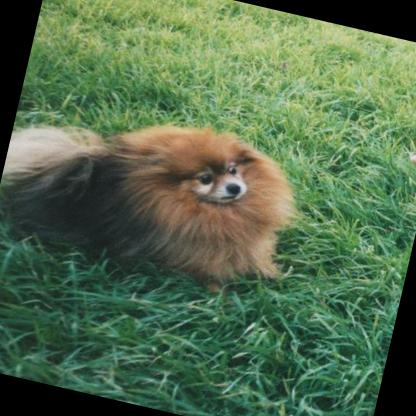Pomeranian: (0, 88, 304, 301)
